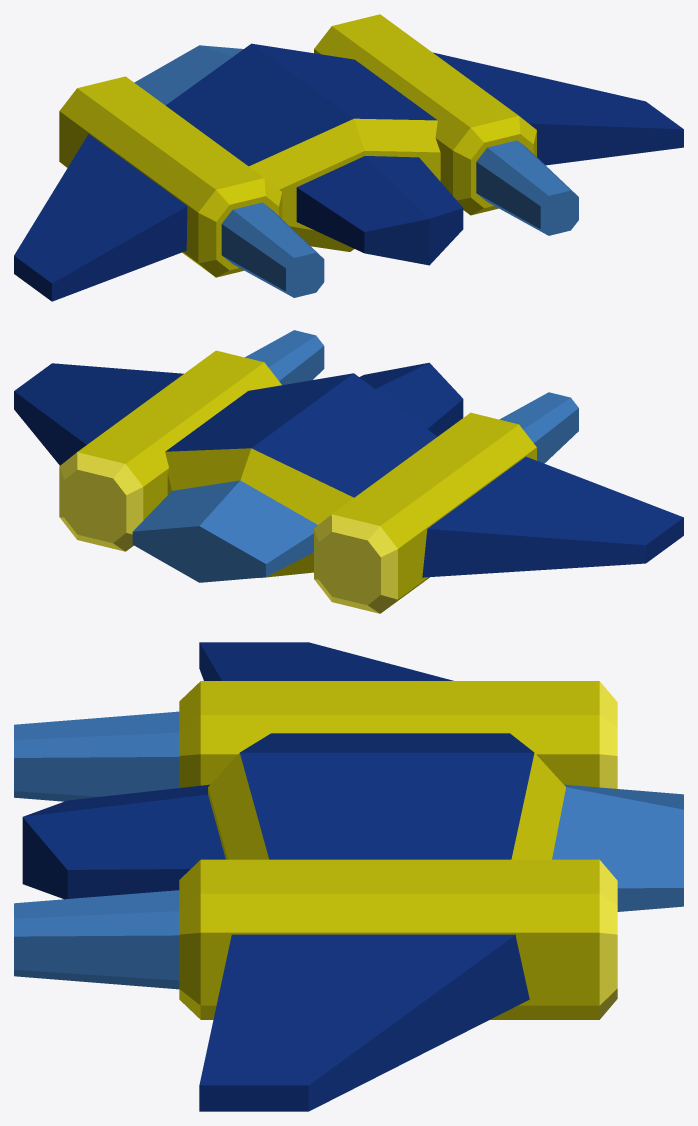
File: mesh_Playerspaceship.fbx
3 views of the same model, one above another, from view 1: azimuth 30°, elevation 25°; view 2: azimuth 150°, elevation 25°; view 3: azimuth 270°, elevation 25° (orthographic). The views are drawn at different scales.
Parts seen in each view (by area): view 1: PlayerSpaceship; view 2: PlayerSpaceship; view 3: PlayerSpaceship.
Part boxes in pixels (bbox=[...]): PlayerSpaceship: bbox=[14, 14, 683, 301]; PlayerSpaceship: bbox=[14, 330, 683, 613]; PlayerSpaceship: bbox=[14, 642, 683, 1111].
Size of the model in its own units: 9.1 by 1.87 by 5.81.
